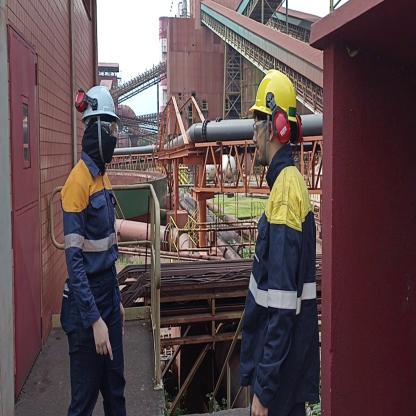Balaclava: (84, 117, 116, 168)
C_eletrica: (239, 180, 324, 408)
Capacete: (250, 68, 298, 118), (79, 85, 119, 119)
Operacional: (62, 161, 127, 322)
